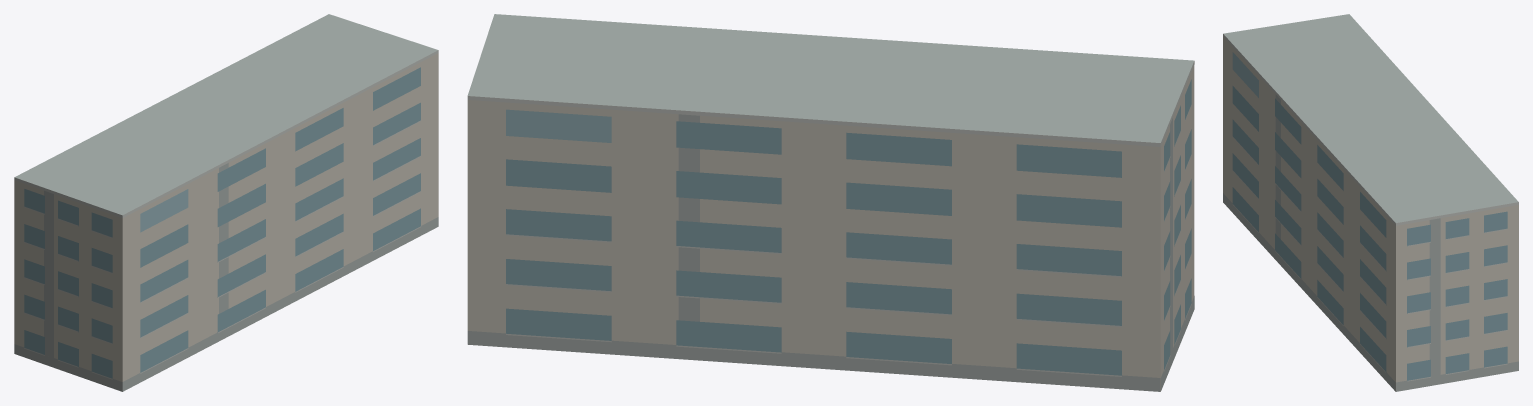
The model's file is residential-e2de9147-d7c9-49b5-a411-25b9d493bd86.glb.
The picture shows the model from 3 angles, left to right: view 1: azimuth 30°, elevation 25°; view 2: azimuth 150°, elevation 25°; view 3: azimuth 270°, elevation 25°; orthographic projection. The views are drawn at different scales.
Visible parts, largest first — view 1: residential-e2de9147-d7c9-49b5-a411-25b9d493bd86.tmp; view 2: residential-e2de9147-d7c9-49b5-a411-25b9d493bd86.tmp; view 3: residential-e2de9147-d7c9-49b5-a411-25b9d493bd86.tmp.
Part boxes in pixels (x1=…): residential-e2de9147-d7c9-49b5-a411-25b9d493bd86.tmp: x1=14, y1=14, x2=438, y2=391; residential-e2de9147-d7c9-49b5-a411-25b9d493bd86.tmp: x1=467, y1=14, x2=1194, y2=391; residential-e2de9147-d7c9-49b5-a411-25b9d493bd86.tmp: x1=1223, y1=14, x2=1518, y2=391.
Bounding box in the file's own units: 40.55 × 15.25 × 24.23.
